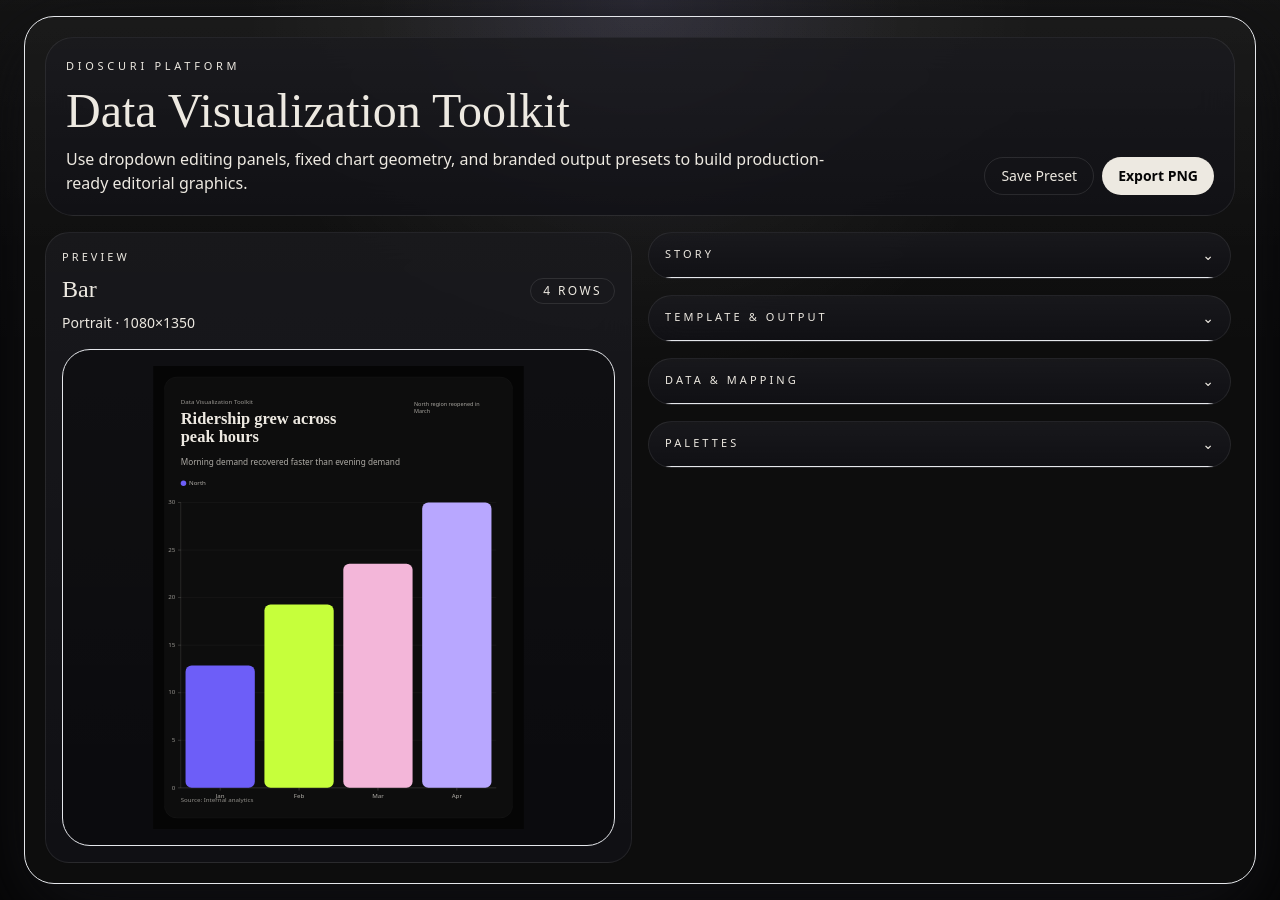
Test: DatavizToolkitPage › renders inside the shared editor shell
Expected: the heading "Data Visualization Toolkit" is shown, [66,84,570,136]
Expected: the element with test id "preview-surface" is shown, [45,232,632,863]
What coordinates should you click on to do the following:
click the button "Template & Output ⌄"
I would click on:
 (746, 317)
Its box is [665,308,1214,328].
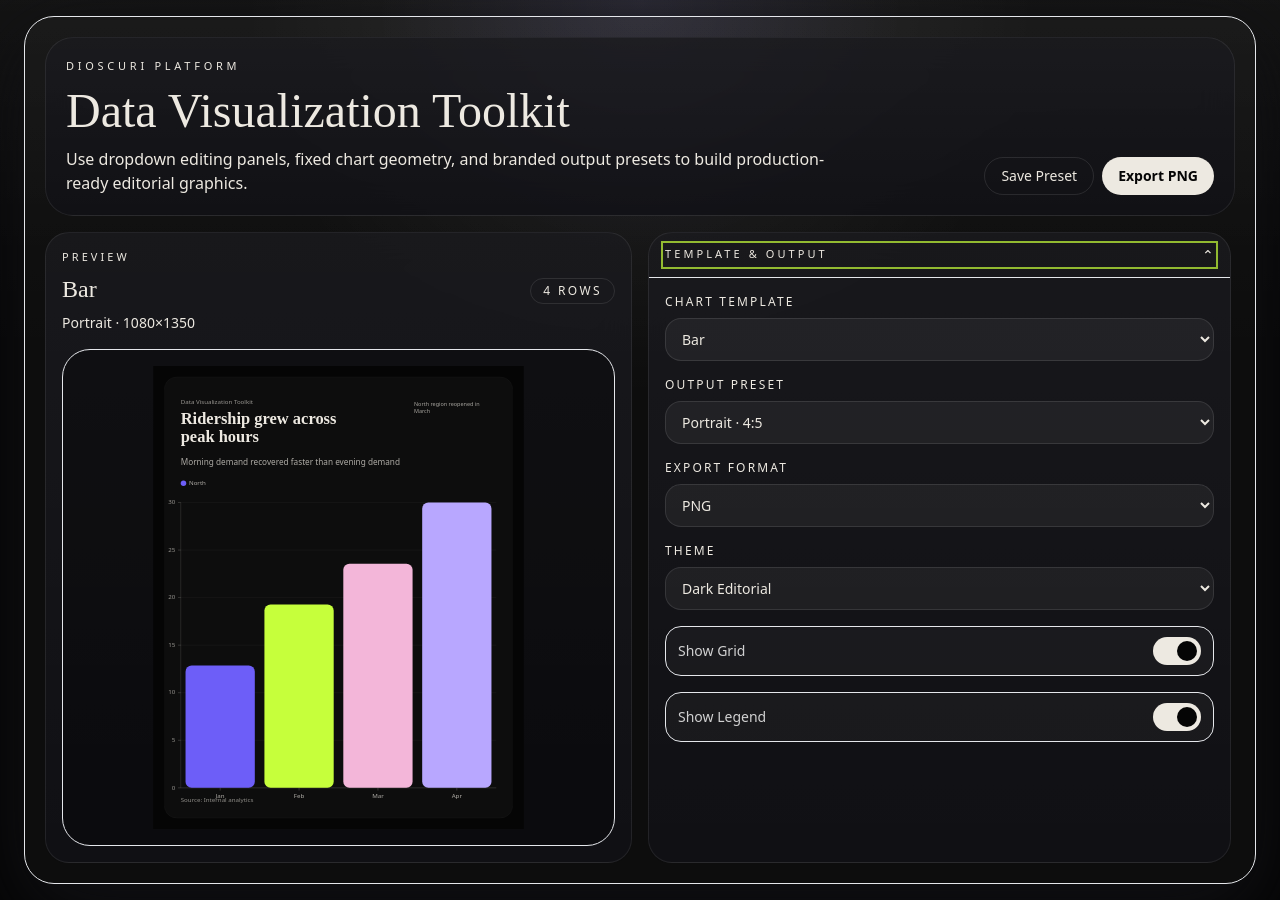
Now the dropdown labelled "Output Preset" is shown, box [665,400,1214,444]
